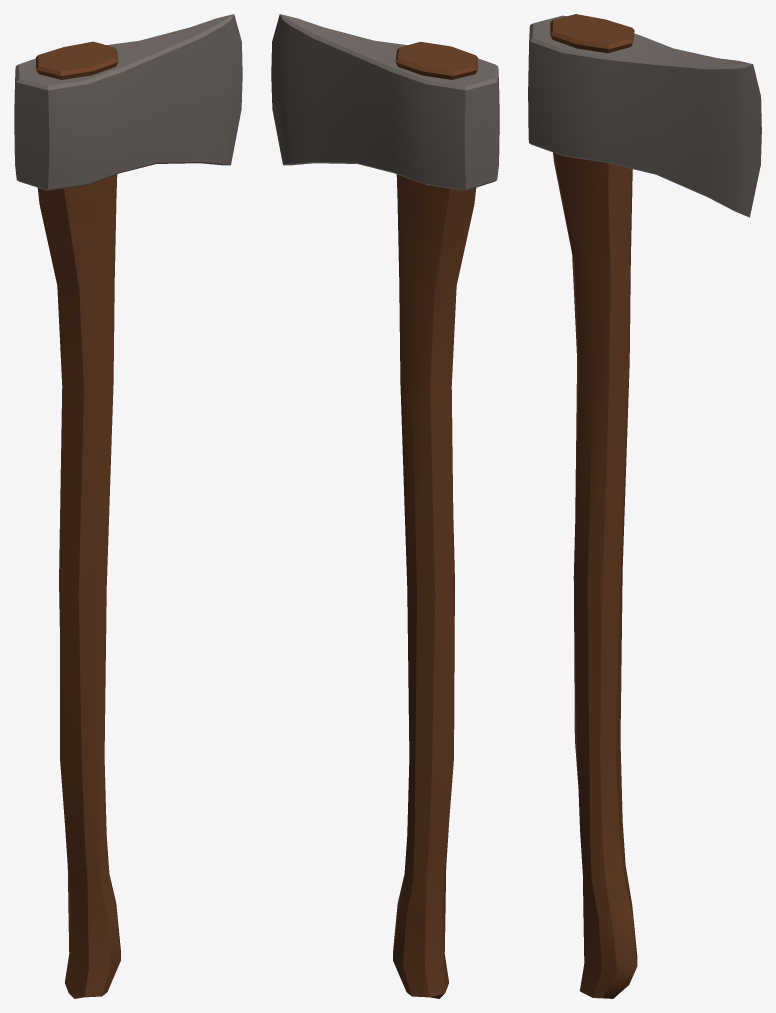
Rendered from Axe.fbx.
The picture shows the model from 3 angles, left to right: view 1: azimuth 30°, elevation 25°; view 2: azimuth 150°, elevation 25°; view 3: azimuth 330°, elevation 25°; orthographic projection. The views are drawn at different scales.
Parts seen in each view (by area): view 1: Axe; view 2: Axe; view 3: Axe.
Boxes of the visible parts, x1,y1,x2,y2 form: Axe: (14, 14, 242, 998); Axe: (271, 14, 499, 998); Axe: (528, 14, 761, 998).
Bounding box in the file's own units: 20.02 × 79.68 × 6.54.
